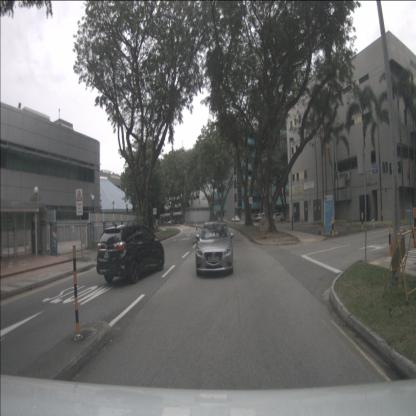vehicle-car: (96, 223, 164, 285), (196, 221, 233, 277), (257, 213, 271, 223), (272, 212, 284, 223), (250, 214, 263, 223), (231, 214, 240, 222), (167, 218, 175, 226)
